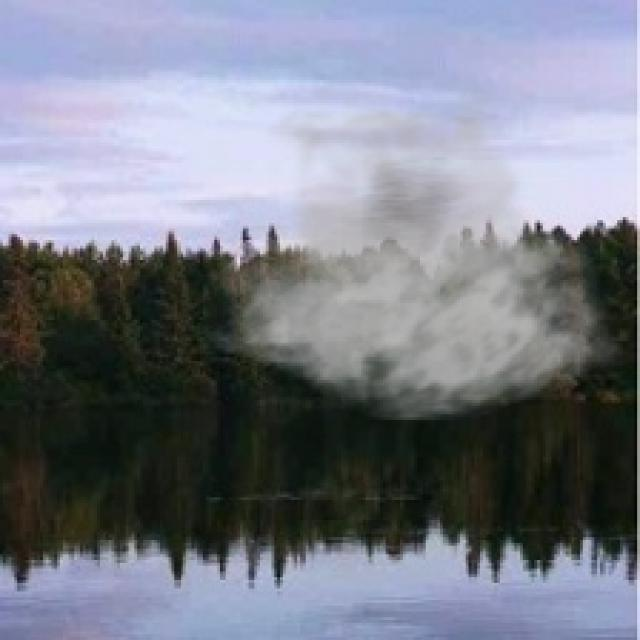Smoke: (197, 77, 623, 423)
